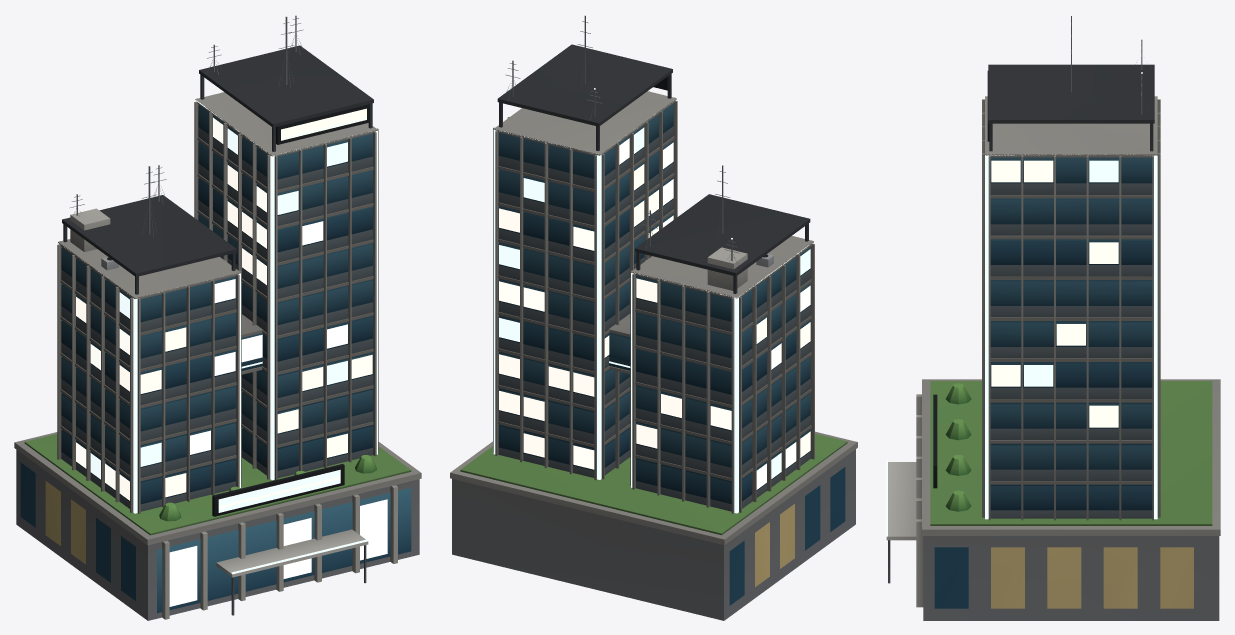
File: torre_vidrio_c.glb
3 renders of one model, left to right at view 1: azimuth 30°, elevation 25°; view 2: azimuth 150°, elevation 25°; view 3: azimuth 270°, elevation 25°, orthographic. The views are drawn at different scales.
Visible parts, largest first — view 1: torre_vidrio_c; view 2: torre_vidrio_c; view 3: torre_vidrio_c.
Part boxes in pixels (<box>): torre_vidrio_c: <box>14,14,421,620</box>; torre_vidrio_c: <box>450,14,857,620</box>; torre_vidrio_c: <box>886,14,1220,620</box>.
Size of the model in its own units: 25.2 by 44.6 by 23.74.
